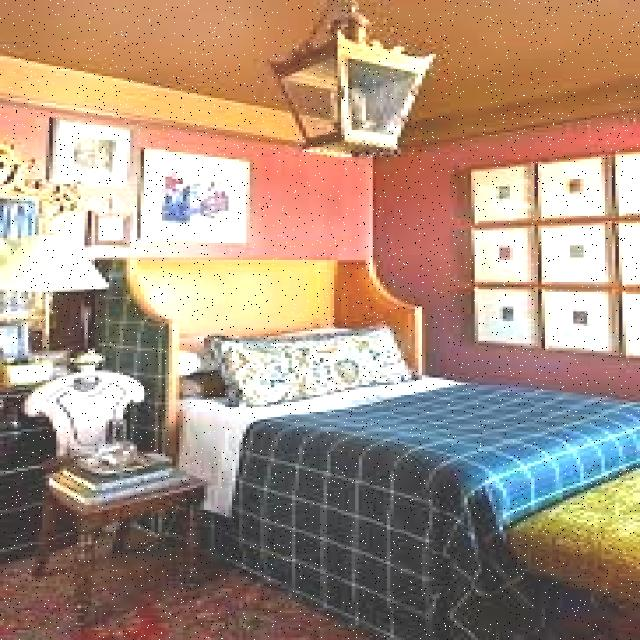bed: (106, 265, 628, 522)
